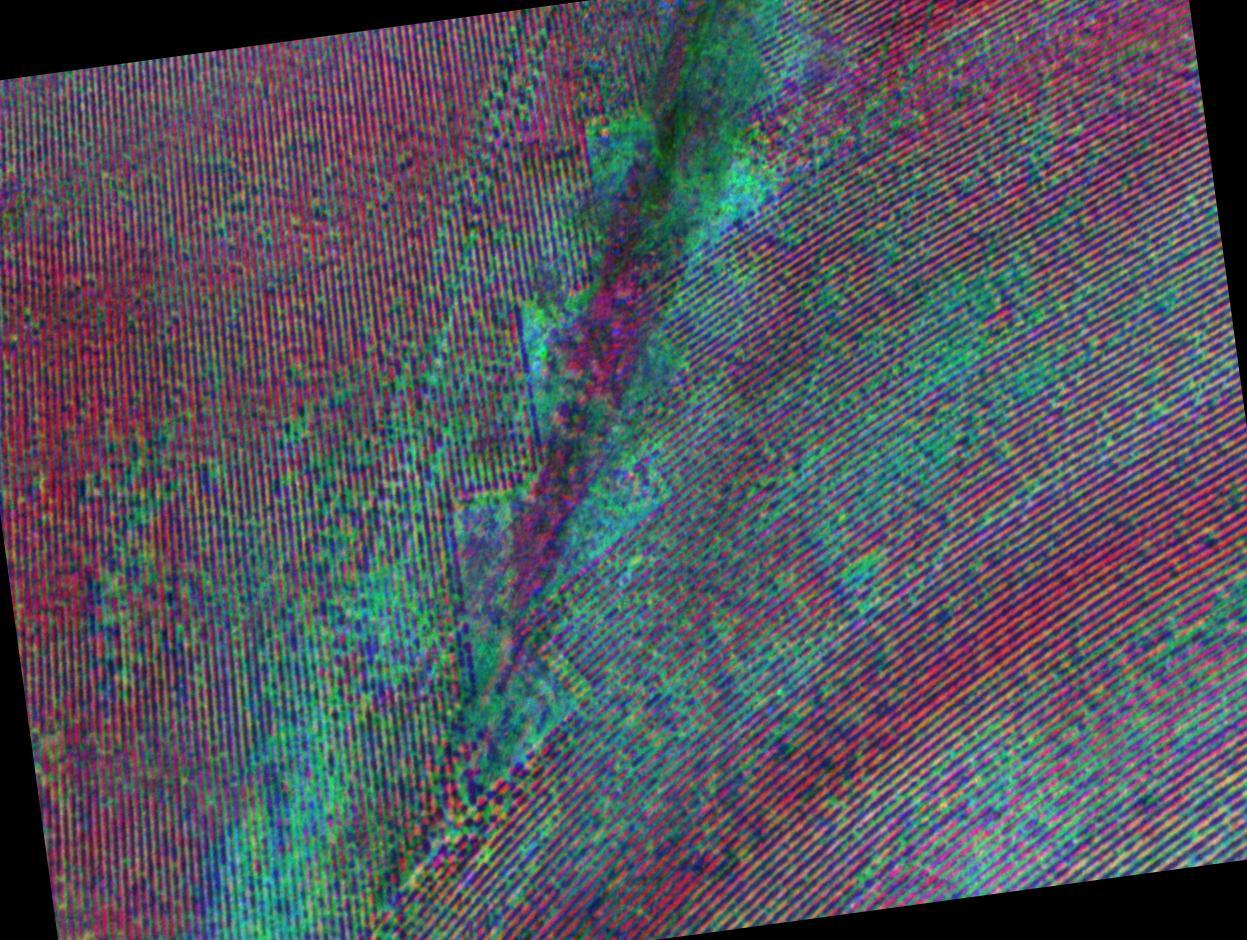dc: (228, 816, 334, 940), (318, 519, 403, 614), (917, 317, 993, 416), (603, 477, 670, 545), (705, 141, 763, 209)
